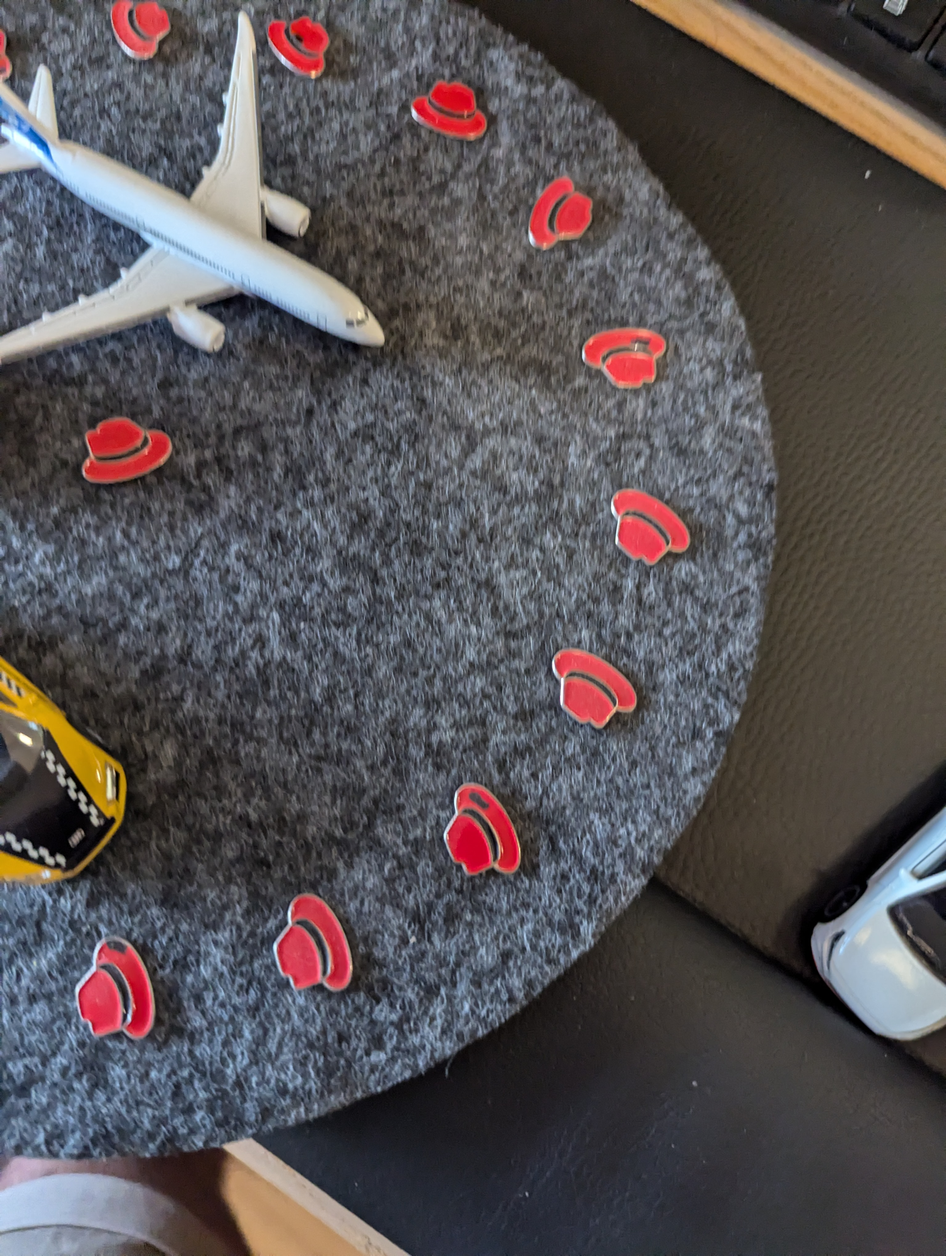Airplane: (0, 0, 420, 377)
Car: (0, 633, 149, 930)
Red-Hat: (59, 914, 184, 1063), (431, 751, 542, 897), (586, 474, 718, 580), (528, 630, 658, 735), (263, 874, 363, 1005), (562, 302, 687, 405), (395, 49, 503, 157), (64, 401, 187, 489), (515, 153, 609, 261), (102, 0, 173, 72), (265, 5, 331, 79)
Scratch: (456, 775, 496, 822), (94, 933, 148, 960), (625, 328, 676, 355), (286, 22, 314, 52)
